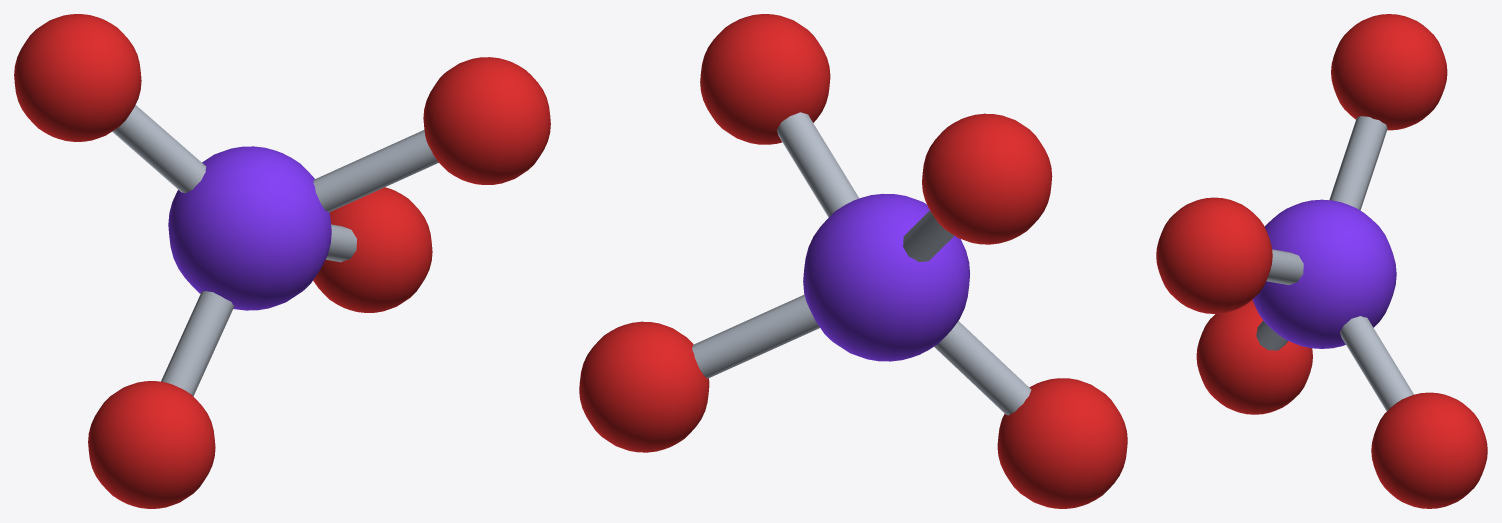
File: grup_fosfat.glb
3 renders of one model, left to right at view 1: azimuth 30°, elevation 25°; view 2: azimuth 150°, elevation 25°; view 3: azimuth 270°, elevation 25°, orthographic. The views are drawn at different scales.
Visible parts, largest first — view 1: Grup_Fosfat; view 2: Grup_Fosfat; view 3: Grup_Fosfat.
Part boxes in pixels (x1,y1,x2,y2): Grup_Fosfat: (14,14,550,508); Grup_Fosfat: (579,14,1127,508); Grup_Fosfat: (1156,14,1487,508).
Bounding box in the file's own units: 1.04 × 1.01 × 0.777.
